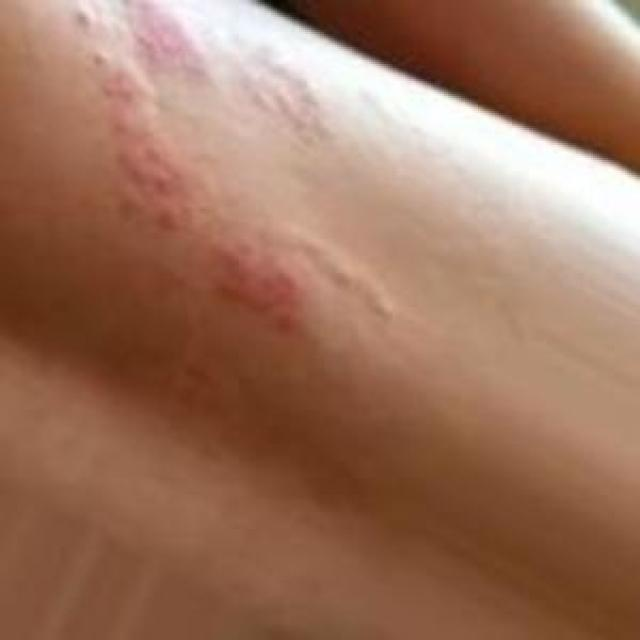Shingles: (58, 0, 328, 332)
